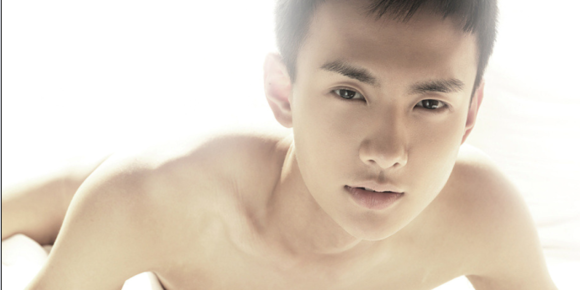person: (242, 1, 500, 223)
